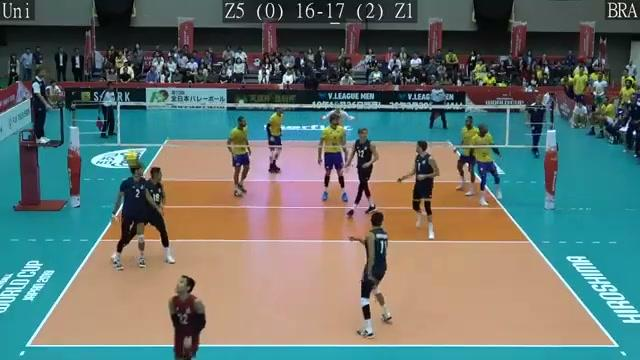ball: (125, 149, 141, 168)
